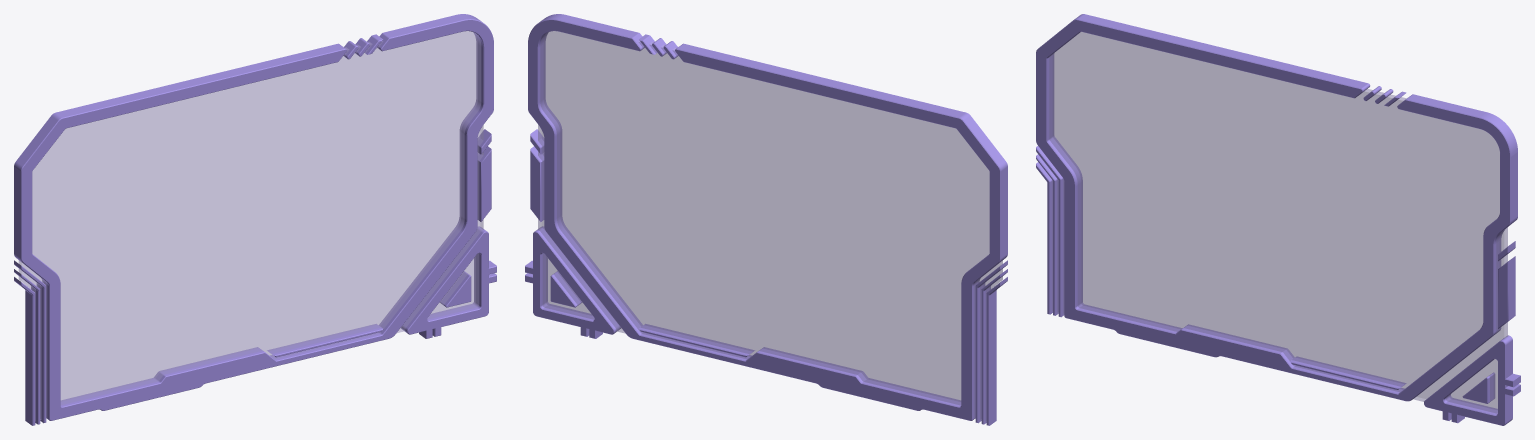
The picture shows the model from 3 angles, left to right: view 1: azimuth 30°, elevation 25°; view 2: azimuth 150°, elevation 25°; view 3: azimuth 330°, elevation 25°; orthographic projection.
Visible parts, largest first — view 1: Extrude_2, Extrude_4; view 2: Extrude_2, Extrude_4; view 3: Extrude_2, Extrude_4.
Boxes of the visible parts, x1,y1,x2,y2 form: Extrude_2: (18,31,483,420); Extrude_4: (14,14,496,425); Extrude_2: (538,31,1002,421); Extrude_4: (525,14,1007,425); Extrude_2: (1049,32,1507,413); Extrude_4: (1036,14,1520,425).
Size of the model in its own units: 7.95 by 4.95 by 0.2223.
